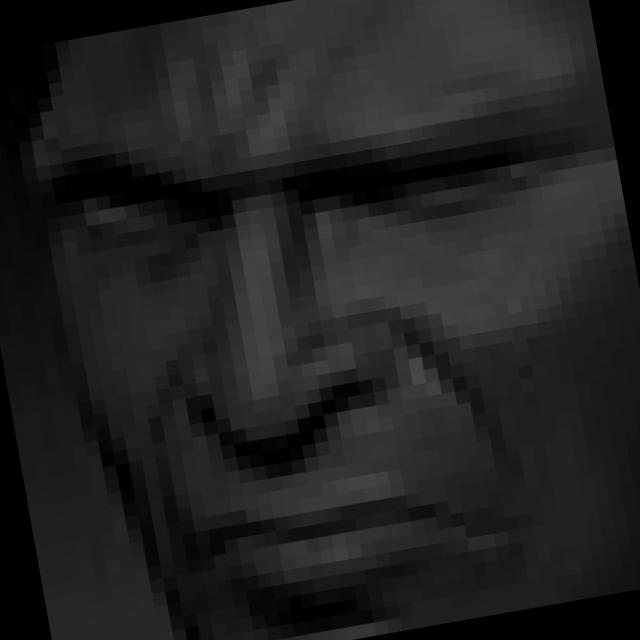disgust: (31, 67, 640, 640)
